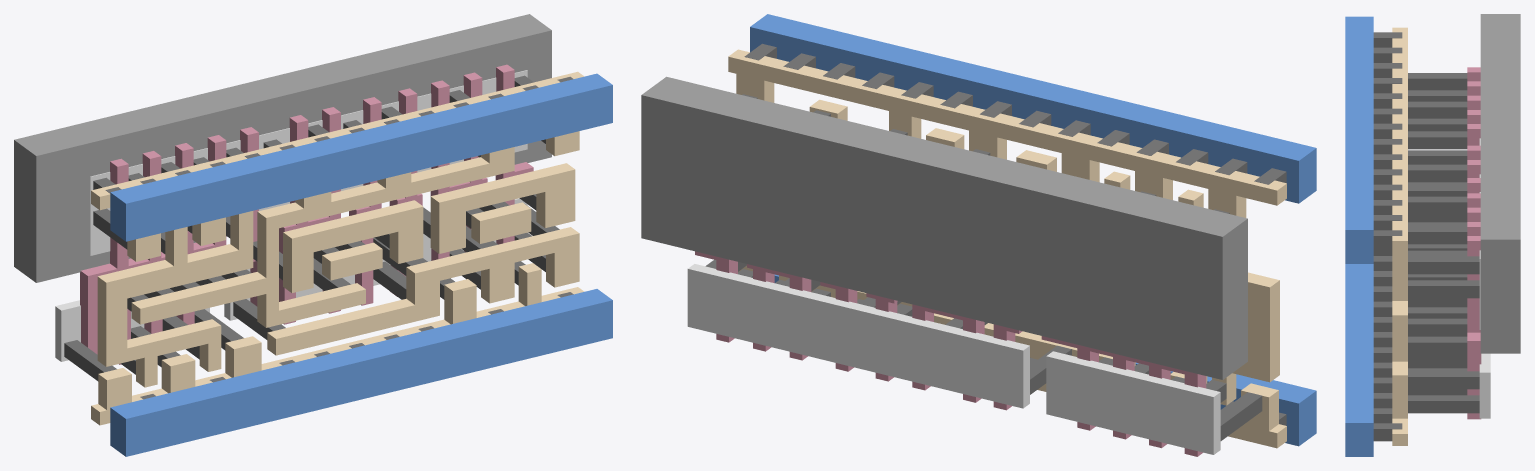
Rendered from sky130_fd_sc_hd__o211a_4.gds.gltf.
The picture shows the model from 3 angles, left to right: view 1: azimuth 30°, elevation 25°; view 2: azimuth 150°, elevation 25°; view 3: azimuth 270°, elevation 25°; orthographic projection. The views are drawn at different scales.
Parts seen in each view (by area): view 1: sky130_fd_sc_hd__o211a_4_li1, sky130_fd_sc_hd__o211a_4_met1, sky130_fd_sc_hd__o211a_4_nwell, sky130_fd_sc_hd__o211a_4_poly, sky130_fd_sc_hd__o211a_4_licon, sky130_fd_sc_hd__o211a_4_diff, sky130_fd_sc_hd__o211a_4_mcon; view 2: sky130_fd_sc_hd__o211a_4_nwell, sky130_fd_sc_hd__o211a_4_diff, sky130_fd_sc_hd__o211a_4_li1, sky130_fd_sc_hd__o211a_4_met1, sky130_fd_sc_hd__o211a_4_poly, sky130_fd_sc_hd__o211a_4_mcon, sky130_fd_sc_hd__o211a_4_licon; view 3: sky130_fd_sc_hd__o211a_4_licon, sky130_fd_sc_hd__o211a_4_nwell, sky130_fd_sc_hd__o211a_4_met1, sky130_fd_sc_hd__o211a_4_mcon, sky130_fd_sc_hd__o211a_4_li1, sky130_fd_sc_hd__o211a_4_poly, sky130_fd_sc_hd__o211a_4_diff.
Part boxes in pixels (x1,y1,x2,y2): sky130_fd_sc_hd__o211a_4_li1: (91,71,584,425); sky130_fd_sc_hd__o211a_4_met1: (110,73,612,456); sky130_fd_sc_hd__o211a_4_nwell: (14,14,551,282); sky130_fd_sc_hd__o211a_4_poly: (80,64,533,364); sky130_fd_sc_hd__o211a_4_licon: (64,75,559,381); sky130_fd_sc_hd__o211a_4_diff: (55,70,527,361); sky130_fd_sc_hd__o211a_4_mcon: (105,76,573,399); sky130_fd_sc_hd__o211a_4_nwell: (641,76,1247,379); sky130_fd_sc_hd__o211a_4_diff: (687,264,1220,454); sky130_fd_sc_hd__o211a_4_li1: (728,49,1286,448); sky130_fd_sc_hd__o211a_4_met1: (750,14,1316,446); sky130_fd_sc_hd__o211a_4_poly: (695,251,1206,456); sky130_fd_sc_hd__o211a_4_mcon: (744,43,1286,425); sky130_fd_sc_hd__o211a_4_licon: (705,94,1262,440); sky130_fd_sc_hd__o211a_4_licon: (1408,73,1479,413); sky130_fd_sc_hd__o211a_4_nwell: (1480,14,1520,353); sky130_fd_sc_hd__o211a_4_met1: (1345,16,1373,456); sky130_fd_sc_hd__o211a_4_mcon: (1373,32,1402,441); sky130_fd_sc_hd__o211a_4_li1: (1392,27,1407,445); sky130_fd_sc_hd__o211a_4_poly: (1467,67,1481,419); sky130_fd_sc_hd__o211a_4_diff: (1479,138,1490,418).
Bounding box in the file's own units: 6.82 × 3.2 × 2.24.
